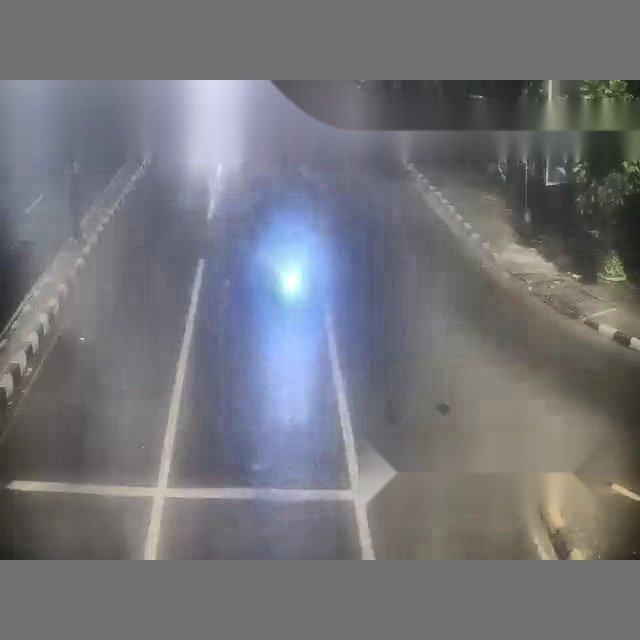Bis: (52, 83, 558, 486)
